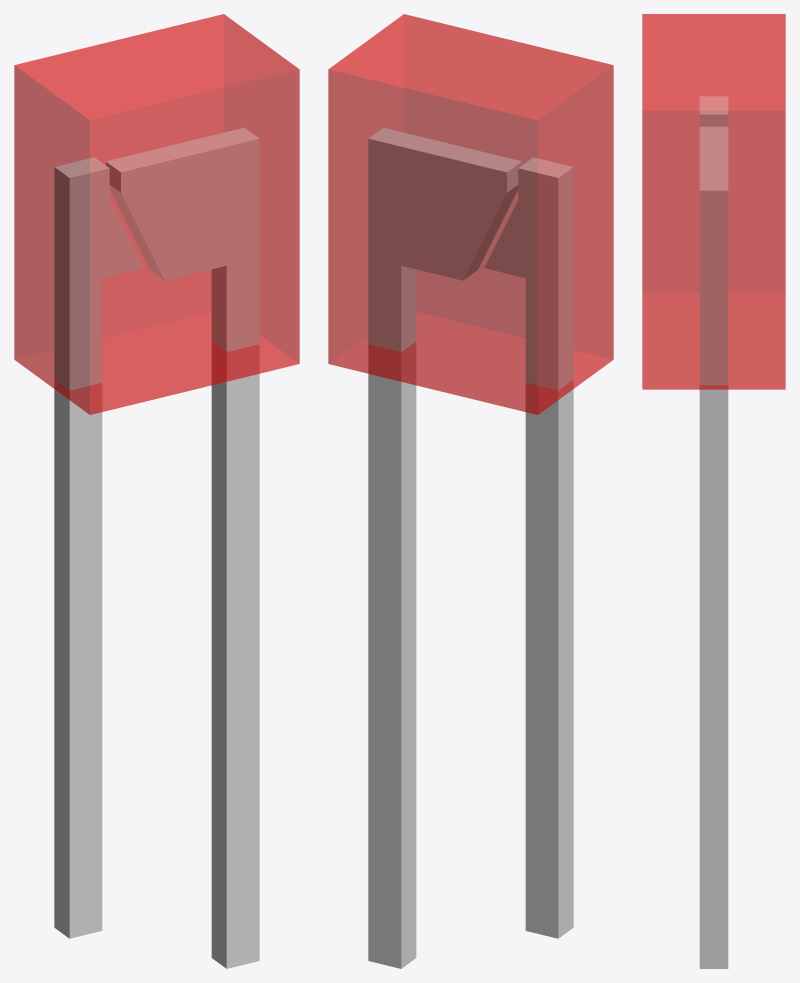
File: LED_square_3mm_red.glb
3 views of the same model, side by side, from view 1: azimuth 30°, elevation 25°; view 2: azimuth 150°, elevation 25°; view 3: azimuth 270°, elevation 25° (orthographic). The views are drawn at different scales.
Visible parts, largest first — view 1: Solid1, Solid2; view 2: Solid1, Solid2; view 3: Solid1, Solid2.
Part boxes in pixels (<box>): Solid1: <box>14,14,299,414</box>; Solid2: <box>54,128,259,968</box>; Solid1: <box>328,14,613,414</box>; Solid2: <box>368,128,573,968</box>; Solid1: <box>642,14,785,389</box>; Solid2: <box>699,96,728,968</box>.
Size of the model in its own units: 0.0032 by 0.0133 by 0.002.
